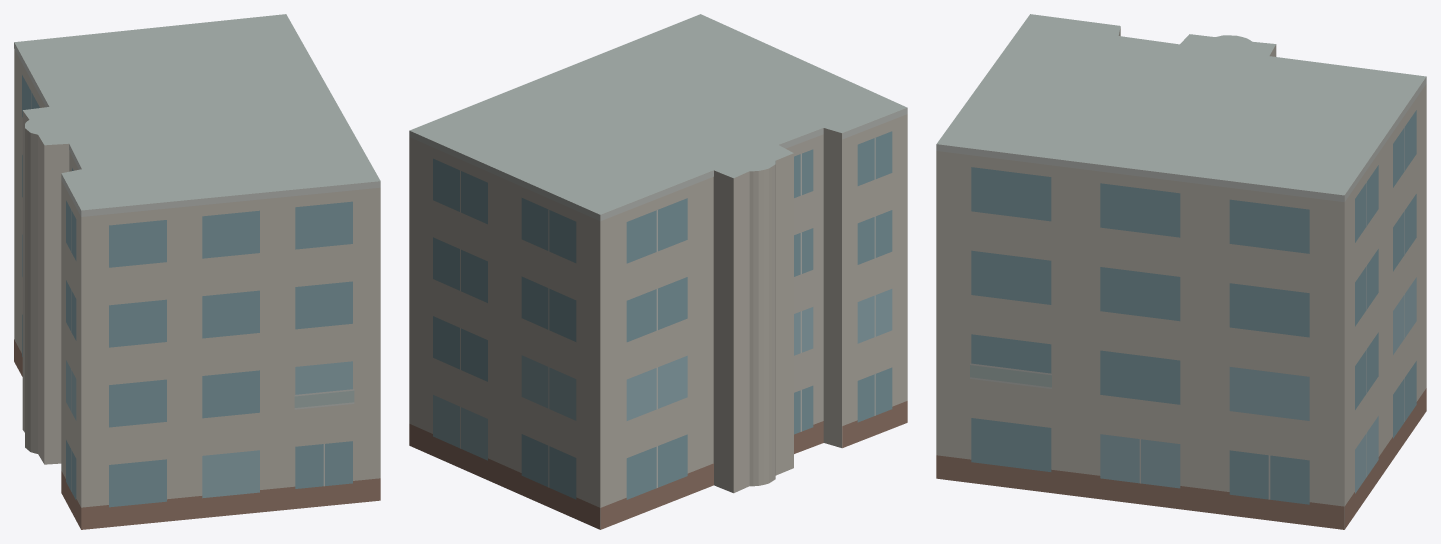
The model's file is survey-upis-32880937.glb.
3 views of the same model, side by side, from view 1: azimuth 30°, elevation 25°; view 2: azimuth 150°, elevation 25°; view 3: azimuth 270°, elevation 25° (orthographic). The views are drawn at different scales.
Visible parts, largest first — view 1: survey-upis-32880937.tmp; view 2: survey-upis-32880937.tmp; view 3: survey-upis-32880937.tmp.
Part boxes in pixels (x1=…): survey-upis-32880937.tmp: x1=14, y1=14, x2=380, y2=529; survey-upis-32880937.tmp: x1=409, y1=14, x2=907, y2=529; survey-upis-32880937.tmp: x1=936, y1=14, x2=1426, y2=529.
Size of the model in its own units: 13.97 by 12 by 15.95.
